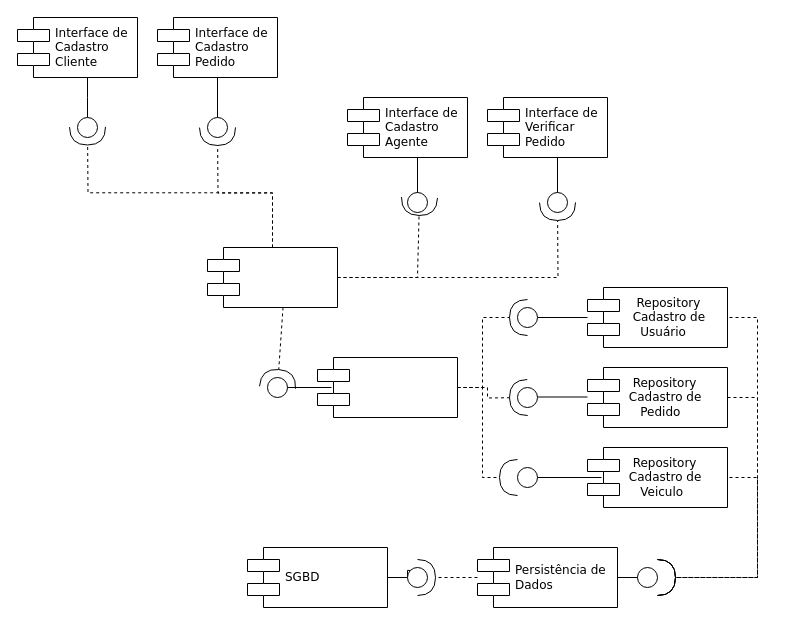
Image size: 793x625. Some labels were removed from this diagram. Here are the shapes that lost their labels. From the top down, the box of each, then its label:
(206, 246, 338, 308): Construção de páginas
(316, 356, 458, 418): API Regras de Negócio
